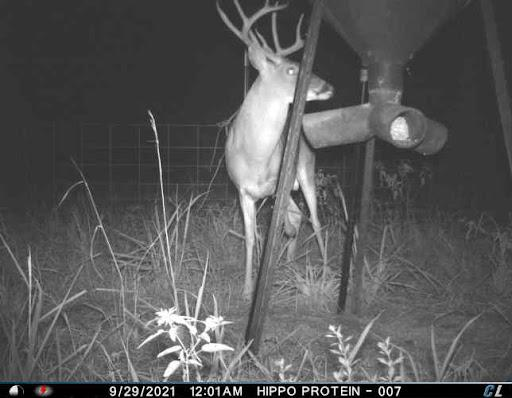Deer: (204, 0, 338, 307)
